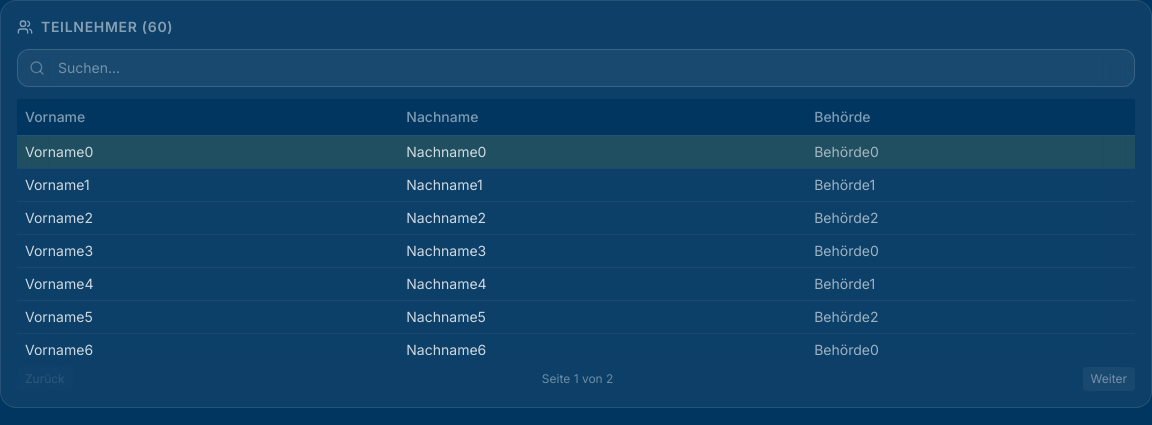
Test case: ParticipantTable › Pagination funktioniert
This screenshot has width=1152, height=425.
Click the button "Weiter" at (1109, 379), box [1082,367,1135,391]
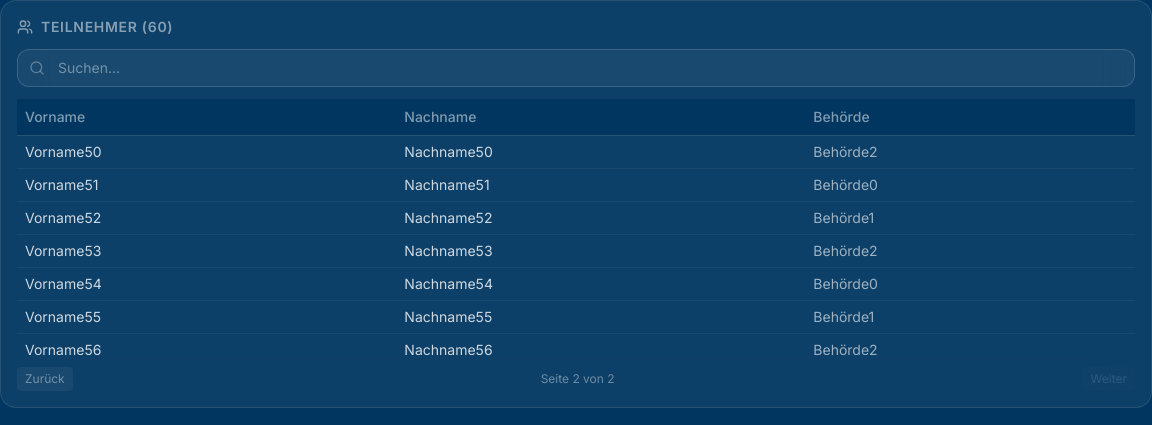
Expected: the text "Seite 2 von 2" is shown, [541,371,615,387]
